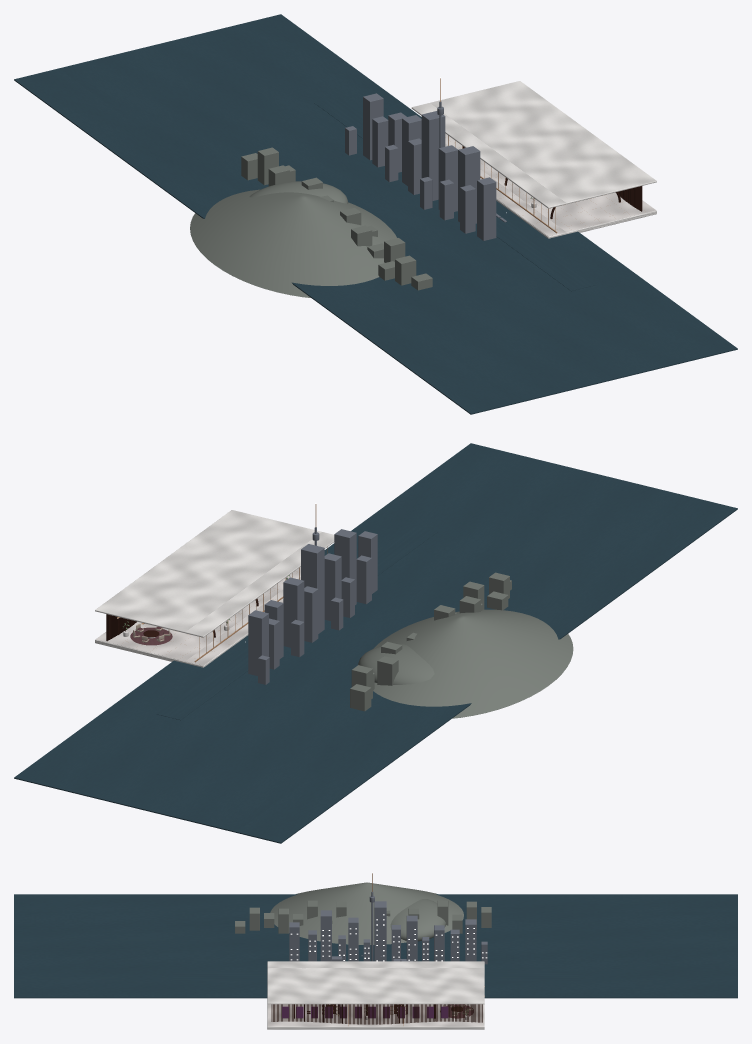
File: atelier.glb
The picture shows the model from 3 angles, top to bottom: view 1: azimuth 30°, elevation 25°; view 2: azimuth 150°, elevation 25°; view 3: azimuth 270°, elevation 25°; orthographic projection. The views are drawn at different scales.
Visible parts, largest first — view 1: Batched Waitemata daylight water, Batched Volcanic island silhouette, Batched Paper chalk plaster, Batched Auckland waterfront mass, Batched Chalk limestone; view 2: Batched Waitemata daylight water, Batched Volcanic island silhouette, Batched Paper chalk plaster, Batched Auckland waterfront mass, Batched Chalk limestone; view 3: Batched Waitemata daylight water, Batched Paper chalk plaster, Batched Volcanic island silhouette, Batched Auckland waterfront mass, Batched Smoked walnut grain, Batched Chalk limestone, Batched Acoustic plum felt, Batched Harbour city light.
Boxes of the visible parts, x1,y1,x2,y2 form: Batched Waitemata daylight water: [14, 14, 737, 414]; Batched Volcanic island silhouette: [190, 147, 432, 297]; Batched Paper chalk plaster: [411, 81, 656, 238]; Batched Auckland waterfront mass: [345, 93, 506, 240]; Batched Chalk limestone: [445, 133, 655, 236]; Batched Waitemata daylight water: [14, 443, 737, 843]; Batched Volcanic island silhouette: [350, 572, 573, 718]; Batched Paper chalk plaster: [95, 510, 334, 667]; Batched Auckland waterfront mass: [248, 527, 377, 684]; Batched Chalk limestone: [96, 566, 300, 665]; Batched Waitemata daylight water: [14, 894, 737, 998]; Batched Paper chalk plaster: [267, 961, 484, 1029]; Batched Volcanic island silhouette: [235, 882, 491, 944]; Batched Auckland waterfront mass: [289, 892, 487, 964]; Batched Smoked walnut grain: [271, 1004, 482, 1024]; Batched Chalk limestone: [268, 1004, 483, 1026]; Batched Acoustic plum felt: [282, 1006, 448, 1018]; Batched Harbour city light: [290, 872, 487, 961].
Bounding box in the file's own units: 76.8 × 26.26 × 160.
Materials: 15 (6 with a texture image).
